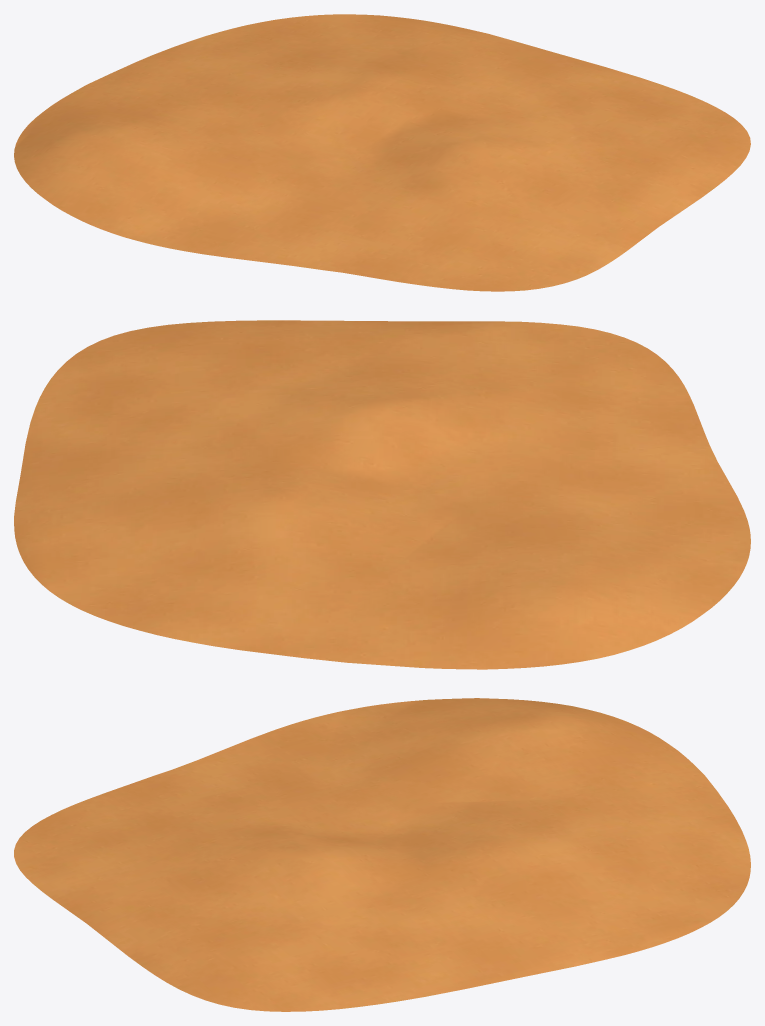
3 renders of one model, top to bottom at view 1: azimuth 30°, elevation 25°; view 2: azimuth 150°, elevation 25°; view 3: azimuth 270°, elevation 25°, orthographic. The views are drawn at different scales.
Visible parts, largest first — view 1: SM_Vault_Sand_Pile_01_V1_LOD0; view 2: SM_Vault_Sand_Pile_01_V1_LOD0; view 3: SM_Vault_Sand_Pile_01_V1_LOD0.
Part boxes in pixels (x1,y1,x2,y2): SM_Vault_Sand_Pile_01_V1_LOD0: (14,14,750,291); SM_Vault_Sand_Pile_01_V1_LOD0: (14,320,750,669); SM_Vault_Sand_Pile_01_V1_LOD0: (14,698,750,1011).
Size of the model in its own units: 5.15 by 0.2048 by 5.12.
Materials: 1 (1 with a texture image).
